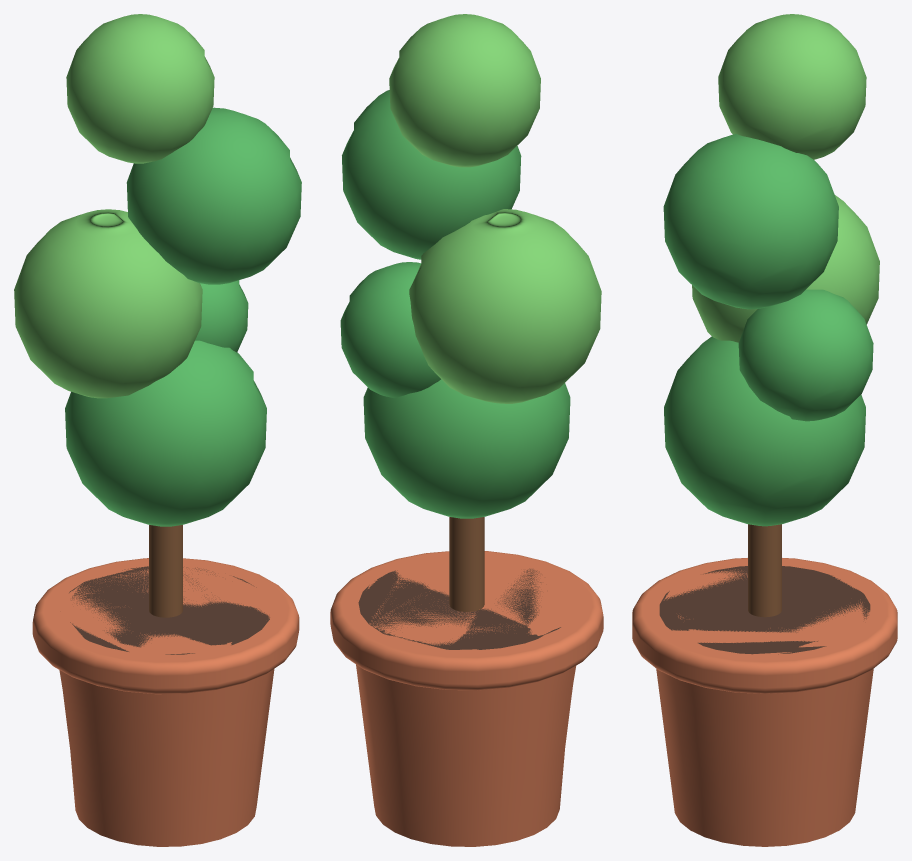
Rendered from PlantTall.glb.
3 views of the same model, side by side, from view 1: azimuth 30°, elevation 25°; view 2: azimuth 150°, elevation 25°; view 3: azimuth 270°, elevation 25° (orthographic). The views are drawn at different scales.
Visible parts, largest first — view 1: potClay (×3), leafGreen (×3), leafLight (×2), shoeDark; view 2: potClay (×3), leafLight (×2), leafGreen (×3), shoeDark; view 3: leafGreen (×3), potClay (×3), leafLight (×2), shoeDark.
Boxes of the visible parts, x1,y1,x2,y2 form: potClay (×3): (32,525,299,846); leafGreen (×3): (65,107,301,526); leafLight (×2): (14,14,214,398); shoeDark: (69,566,269,654); potClay (×3): (330,517,603,846); leafLight (×2): (389,14,601,403); leafGreen (×3): (340,90,570,518); shoeDark: (358,568,560,649); leafGreen (×3): (663,134,873,526); potClay (×3): (632,524,897,846); leafLight (×2): (692,14,879,342); shoeDark: (659,566,870,654).
Bounding box in the file's own units: 0.4169 × 1.26 × 0.3872.
